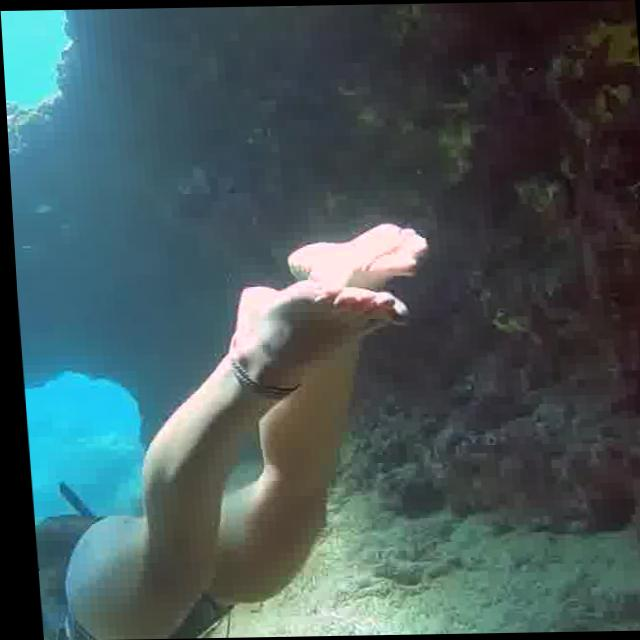human: (9, 203, 467, 640)
